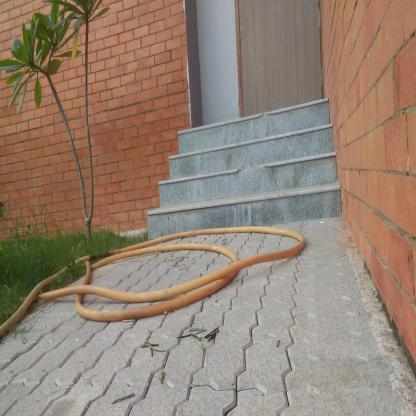stairs: (177, 142, 326, 243)
